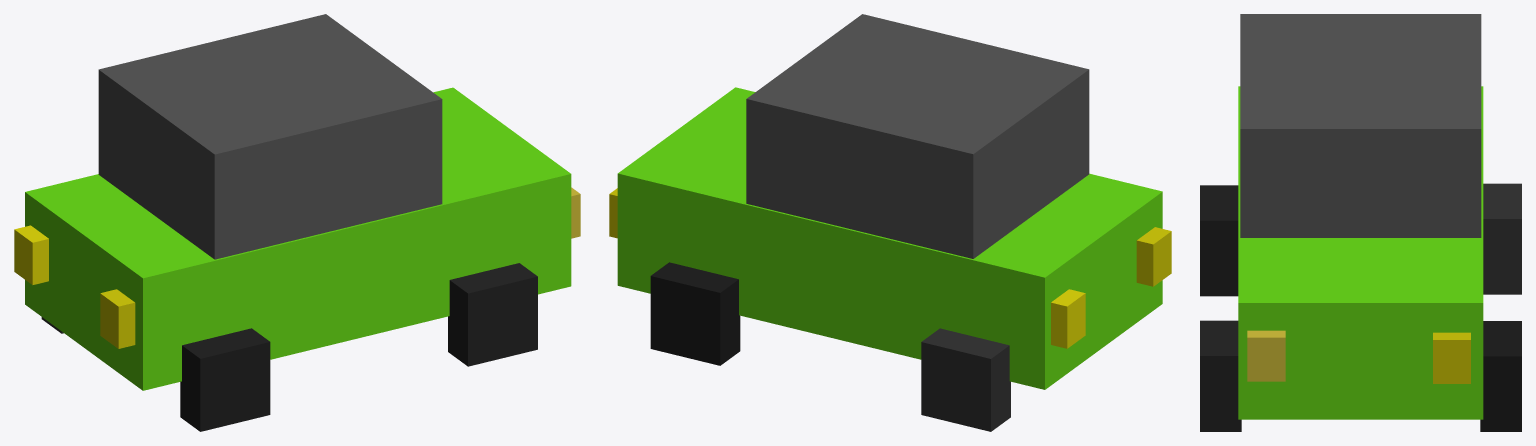
The model's file is car3.glb.
3 renders of one model, left to right at view 1: azimuth 30°, elevation 25°; view 2: azimuth 150°, elevation 25°; view 3: azimuth 270°, elevation 25°, orthographic. The views are drawn at different scales.
Visible parts, largest first — view 1: Cube, Куб, Куб.001, Куб.002, Куб.008, Куб.007; view 2: Cube, Куб, Куб.003, Куб.004, Куб.008, Куб.007; view 3: Куб, Cube, Куб.002, Куб.003, Куб.004, Куб.001, Куб.005, Куб.006.
Boxes of the visible parts, left/top/right/bottom form: Cube: left=25, top=87, right=571, bottom=390; Куб: left=98, top=14, right=442, bottom=259; Куб.001: left=180, top=328, right=270, bottom=431; Куб.002: left=448, top=263, right=537, bottom=366; Куб.008: left=100, top=289, right=135, bottom=348; Куб.007: left=14, top=225, right=48, bottom=284; Cube: left=617, top=87, right=1162, bottom=389; Куб: left=746, top=14, right=1089, bottom=258; Куб.003: left=650, top=262, right=740, bottom=365; Куб.004: left=921, top=328, right=1010, bottom=431; Куб.008: left=1136, top=227, right=1171, bottom=286; Куб.007: left=1051, top=289, right=1085, bottom=348; Куб: left=1240, top=14, right=1481, bottom=237; Cube: left=1238, top=86, right=1483, bottom=419; Куб.002: left=1200, top=320, right=1241, bottom=431; Куб.003: left=1480, top=321, right=1521, bottom=431; Куб.004: left=1483, top=183, right=1521, bottom=294; Куб.001: left=1200, top=185, right=1238, bottom=296; Куб.005: left=1247, top=330, right=1285, bottom=381; Куб.006: left=1433, top=332, right=1470, bottom=383.
Size of the model in its own units: 8.54 by 4.53 by 5.
